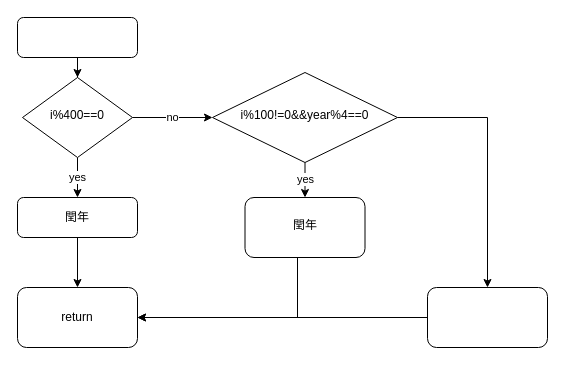
This 565x365 diagram has some shape labels left out. Each missing label, with the centre of its shape:
start: [77,37]
不是閏年: [487,317]
